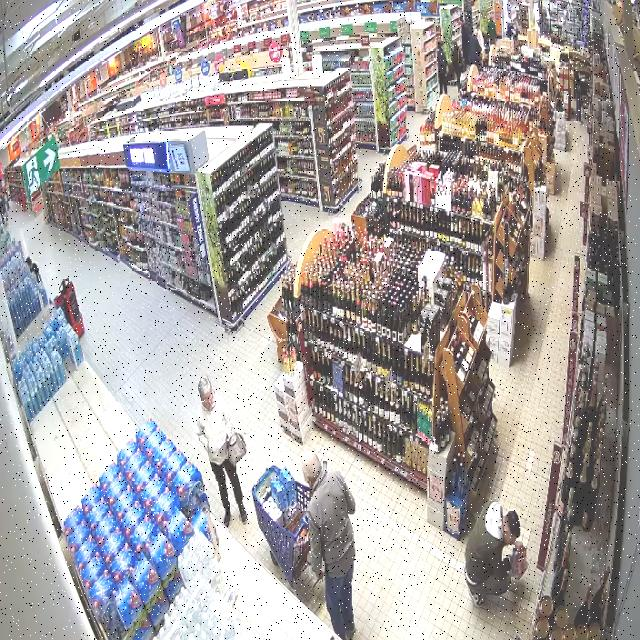article: (512, 548, 527, 578)
bags: (227, 431, 246, 464)
hands: (514, 541, 524, 550)
person: (302, 450, 355, 639), (196, 376, 246, 526), (465, 501, 524, 606)
